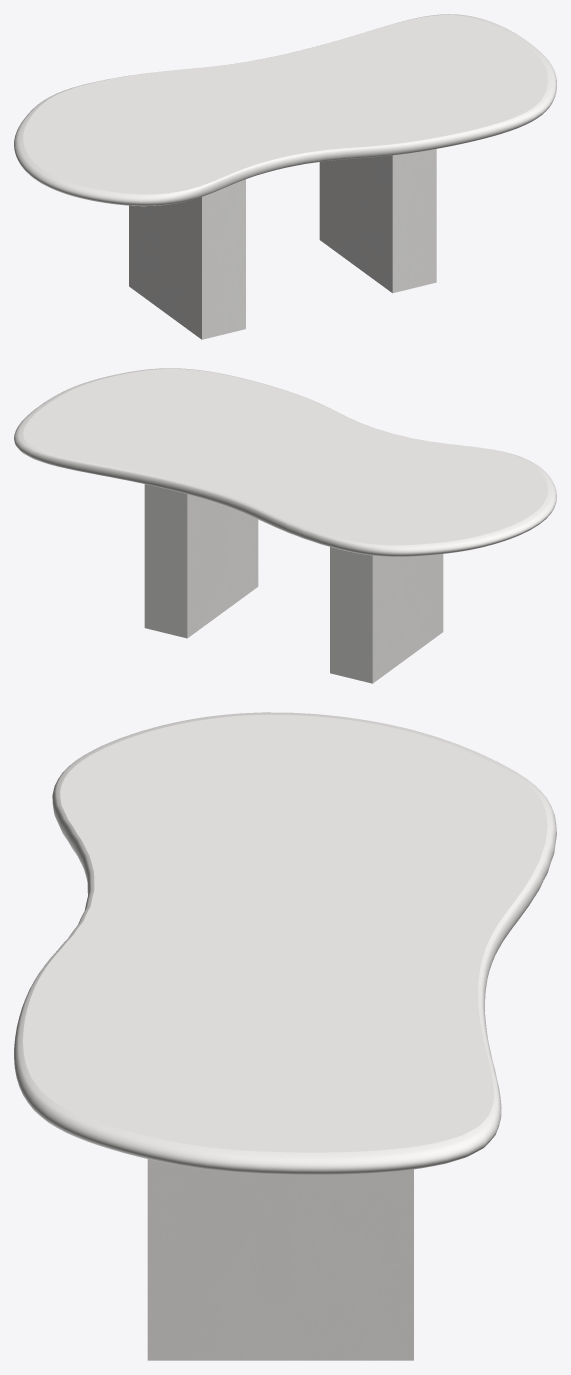
File: purewhite_wave_round_ridge.glb
3 renders of one model, top to bottom at view 1: azimuth 30°, elevation 25°; view 2: azimuth 150°, elevation 25°; view 3: azimuth 270°, elevation 25°, orthographic. The views are drawn at different scales.
Visible parts, largest first — view 1: round_wave, ridge; view 2: round_wave, ridge; view 3: round_wave, ridge.
Boxes of the visible parts, left/top/right/bottom form: round_wave: left=14, top=14, right=556, bottom=206; ridge: left=129, top=149, right=436, bottom=339; round_wave: left=14, top=368, right=556, bottom=556; ridge: left=144, top=484, right=443, bottom=683; round_wave: left=14, top=712, right=556, bottom=1174; ridge: left=147, top=1159, right=413, bottom=1360.
Size of the model in its own units: 7.5 by 2.5 by 3.8.
Materials: 1 (1 with a texture image).
